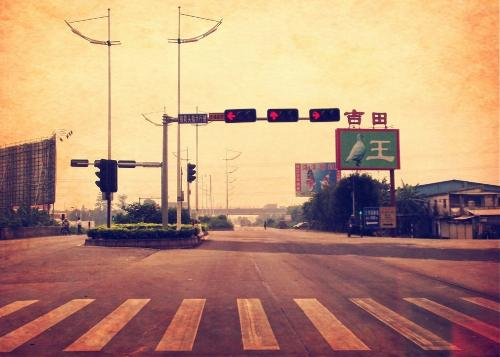red: (266, 107, 301, 126), (223, 107, 258, 125), (308, 107, 342, 125)
